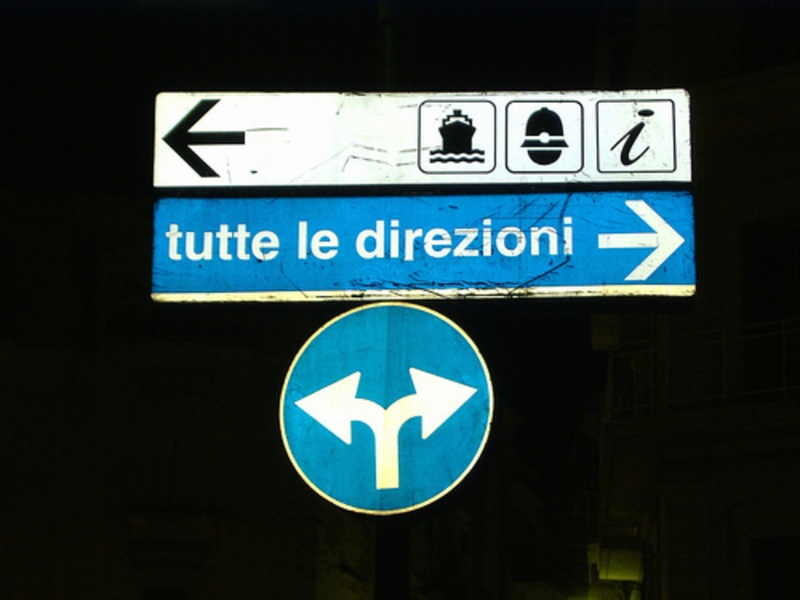left_direction: (157, 94, 252, 180)
right_direction: (583, 193, 691, 287)
